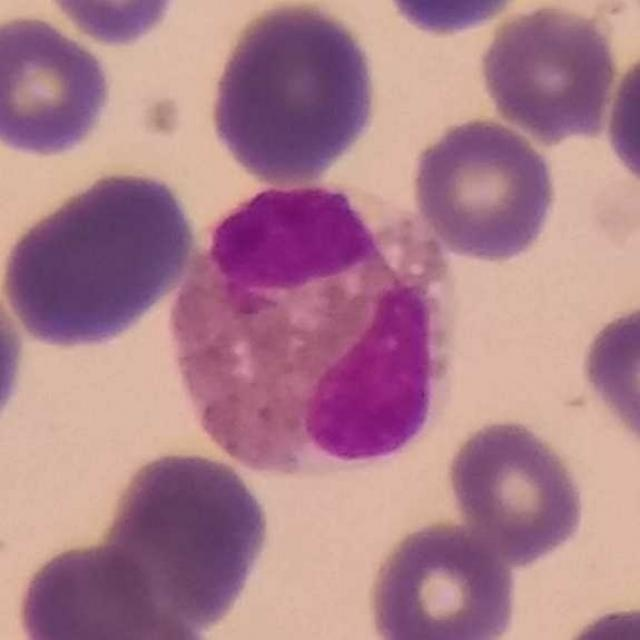Eosinophil: (170, 183, 456, 472)
RBC: (0, 165, 201, 353), (97, 444, 276, 631), (204, 1, 383, 188), (407, 114, 561, 266), (443, 414, 590, 565), (475, 1, 622, 143), (363, 516, 522, 640), (10, 536, 195, 640), (0, 11, 116, 159), (576, 295, 640, 454), (25, 605, 234, 640), (39, 0, 186, 49), (375, 0, 535, 39), (602, 41, 640, 199), (0, 264, 30, 452), (548, 599, 640, 640)
